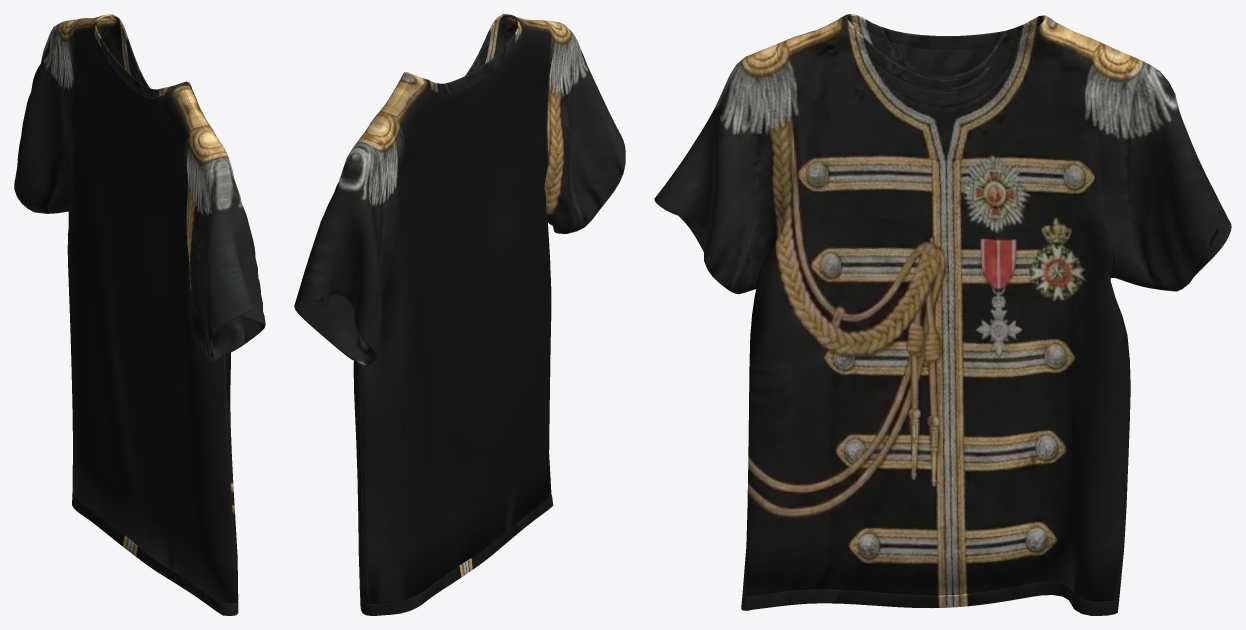
The model's file is band-director-tee.glb.
The picture shows the model from 3 angles, left to right: view 1: azimuth 30°, elevation 25°; view 2: azimuth 150°, elevation 25°; view 3: azimuth 270°, elevation 25°; orthographic projection. The views are drawn at different scales.
Visible parts, largest first — view 1: back_mesh_n3d%2E001_n3d, bottom_mesh_n3d%2E001_n3d; view 2: back_mesh_n3d%2E001_n3d, bottom_mesh_n3d%2E001_n3d; view 3: bottom_mesh_n3d%2E001_n3d, back_mesh_n3d%2E001_n3d.
Part boxes in pixels (<box>): back_mesh_n3d%2E001_n3d: <box>67,17,237,603</box>; bottom_mesh_n3d%2E001_n3d: <box>14,14,265,615</box>; back_mesh_n3d%2E001_n3d: <box>361,17,555,604</box>; bottom_mesh_n3d%2E001_n3d: <box>294,14,625,615</box>; bottom_mesh_n3d%2E001_n3d: <box>654,14,1231,615</box>; back_mesh_n3d%2E001_n3d: <box>742,19,1127,598</box>.
Bounding box in the file's own units: 0.2669 × 1.44 × 1.27.
Materials: 6 (6 with a texture image).
